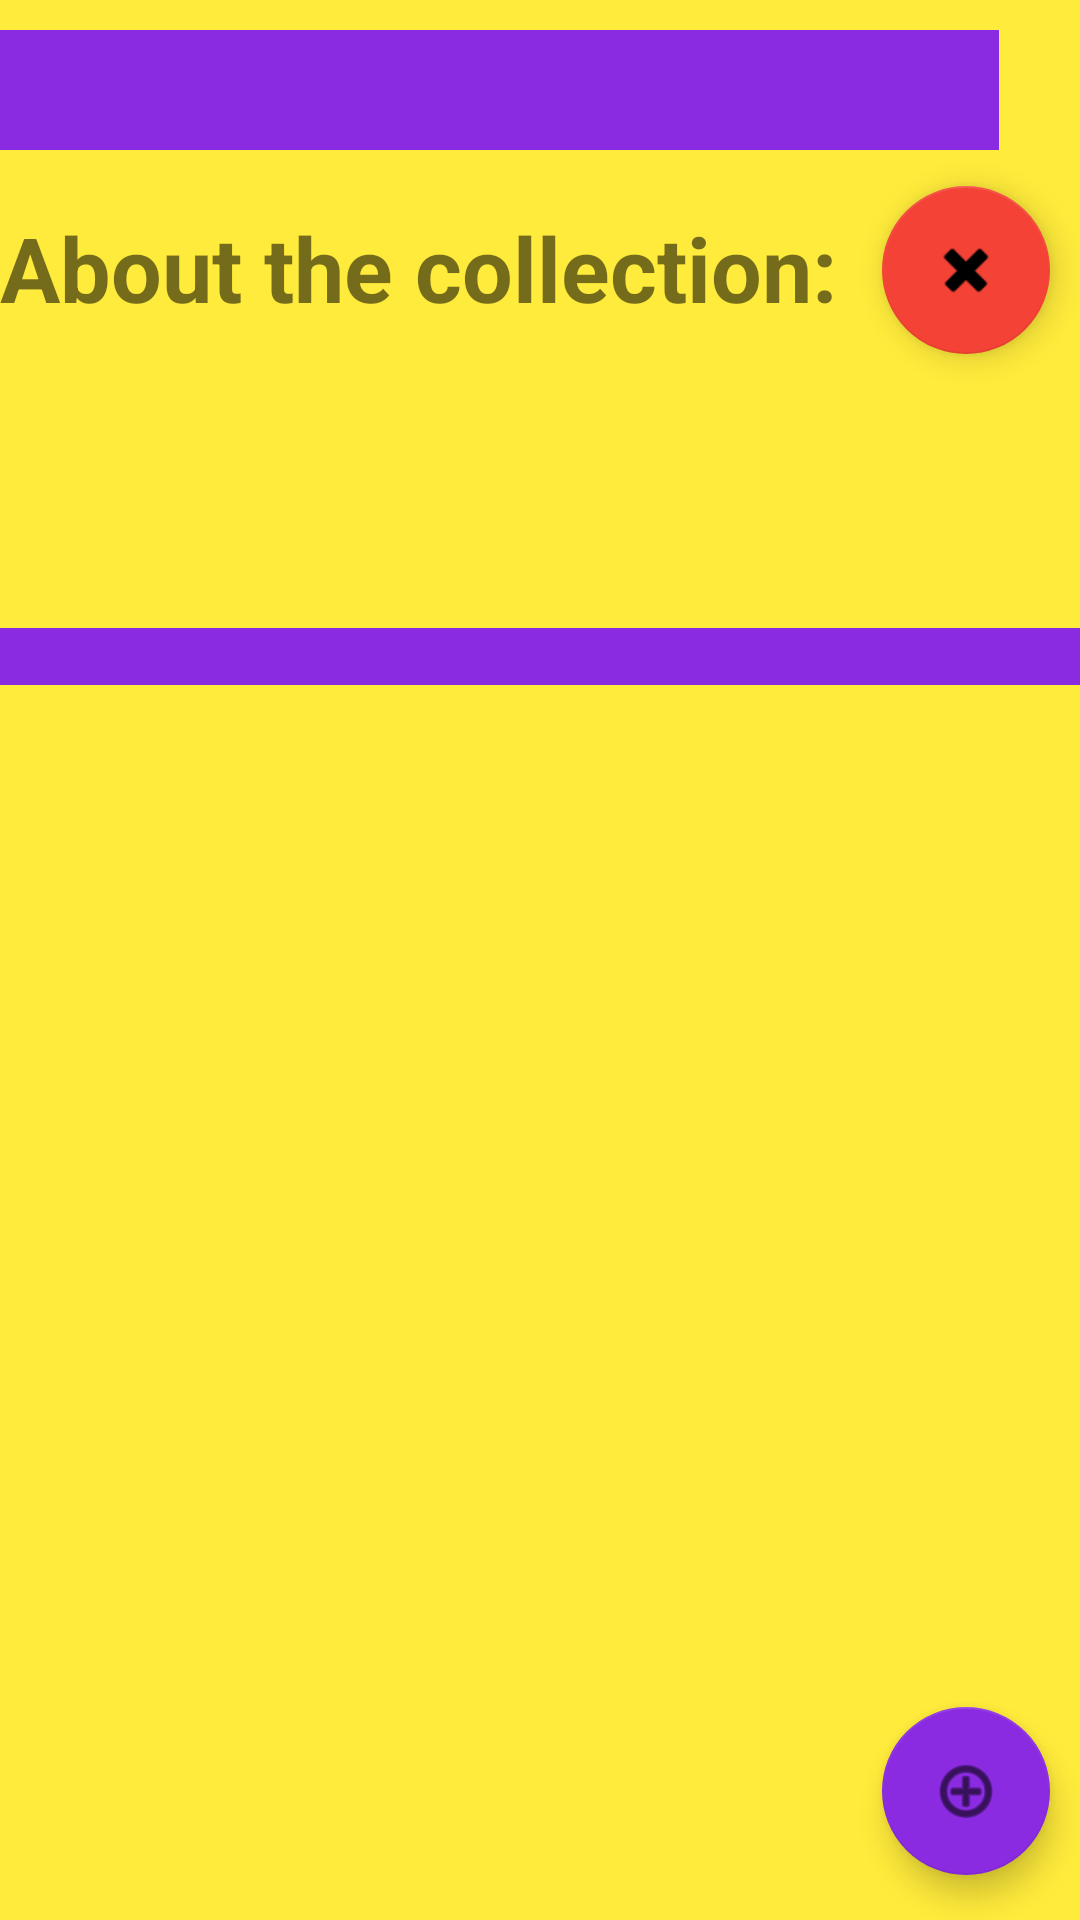

Icons on this 1080w x 1920h Android screen, each with the point to tap as (x=x, y=y):
add: (x=966, y=1791)
delete: (x=966, y=270)
